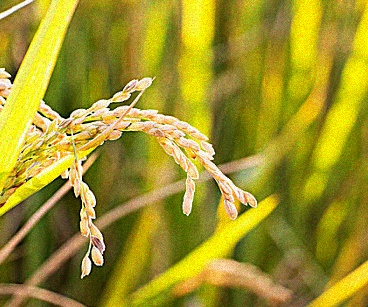rice: (19, 73, 255, 282)
